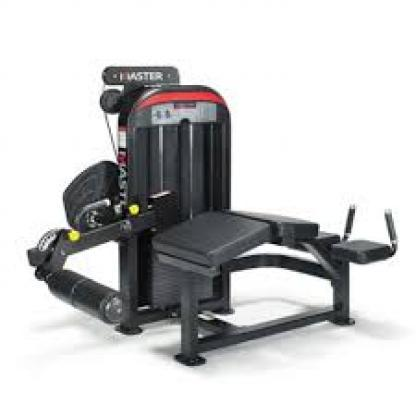reg curl machine: (23, 55, 409, 371)
